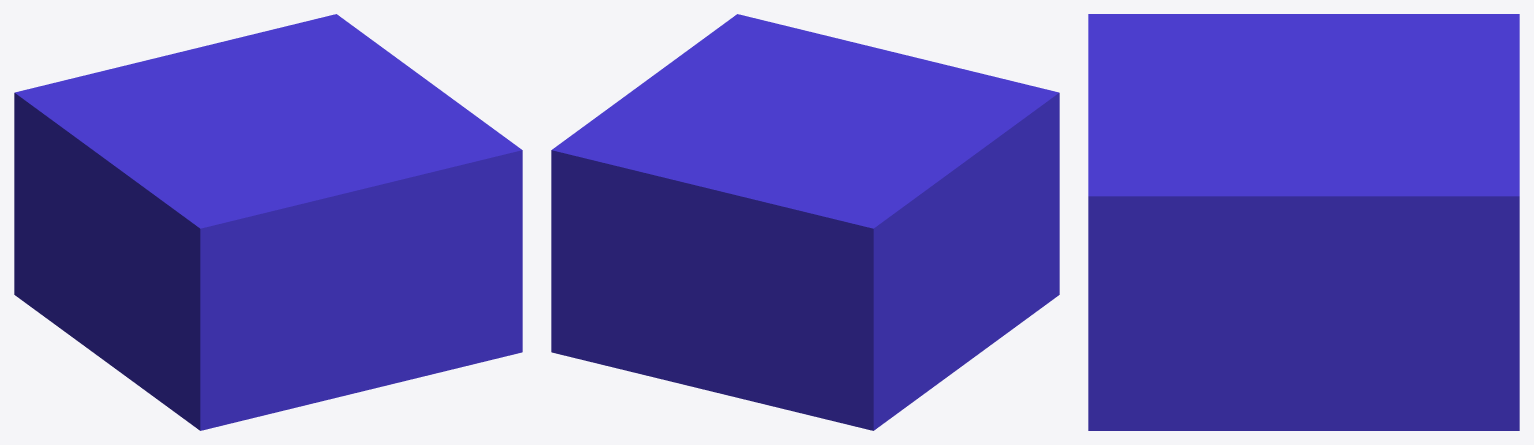
Rendered from Agua.fbx.
3 renders of one model, left to right at view 1: azimuth 30°, elevation 25°; view 2: azimuth 150°, elevation 25°; view 3: azimuth 270°, elevation 25°, orthographic. The views are drawn at different scales.
Visible parts, largest first — view 1: Agua; view 2: Agua; view 3: Agua.
Part boxes in pixels (<box>): Agua: <box>14,14,522,430</box>; Agua: <box>551,14,1059,430</box>; Agua: <box>1088,14,1519,430</box>.
Size of the model in its own units: 100 by 60 by 100.
